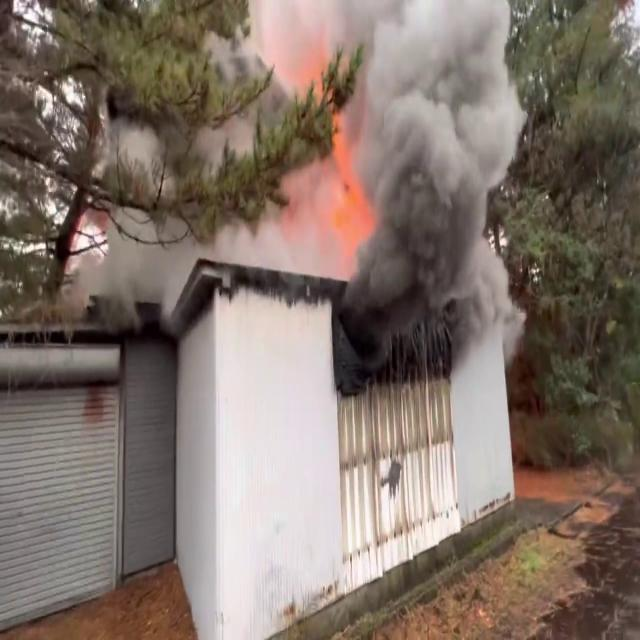Fire: (321, 116, 372, 260)
Smoke: (340, 0, 497, 356)
